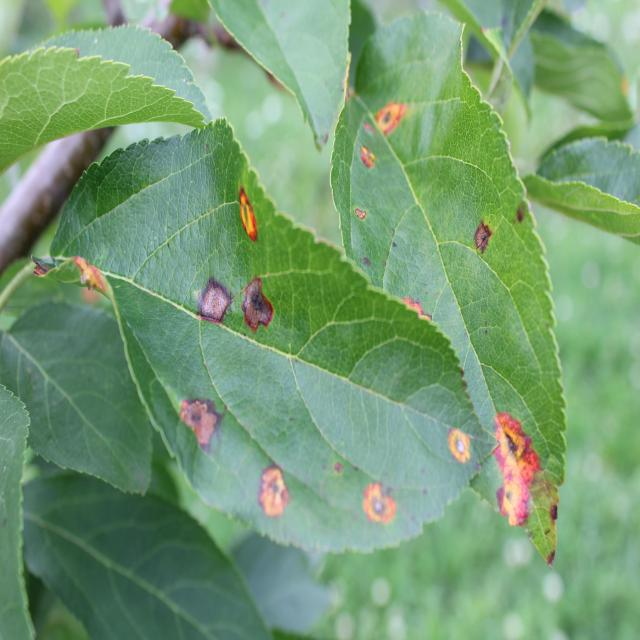Rust: (485, 400, 539, 545), (166, 371, 228, 471), (49, 238, 114, 312), (356, 464, 412, 548), (228, 150, 268, 249), (367, 92, 425, 156), (195, 258, 238, 344), (253, 456, 299, 527), (240, 277, 282, 350), (393, 282, 446, 335), (346, 121, 377, 185), (440, 412, 472, 471), (351, 203, 368, 230)
